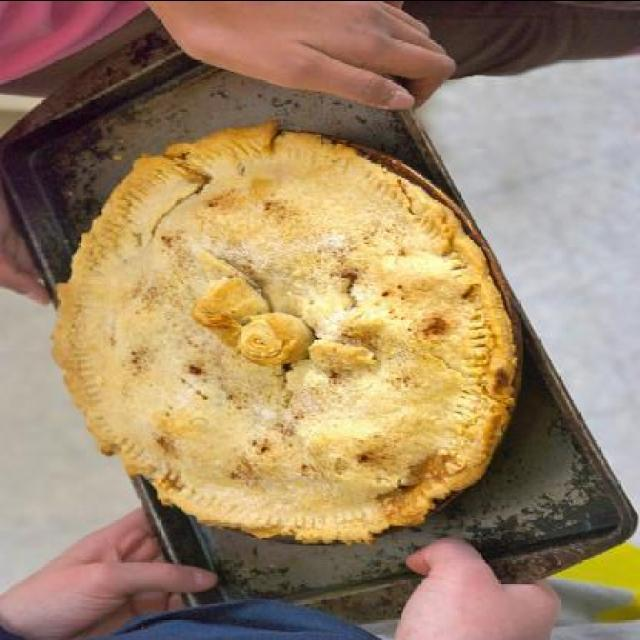Apple: (49, 130, 506, 548)
